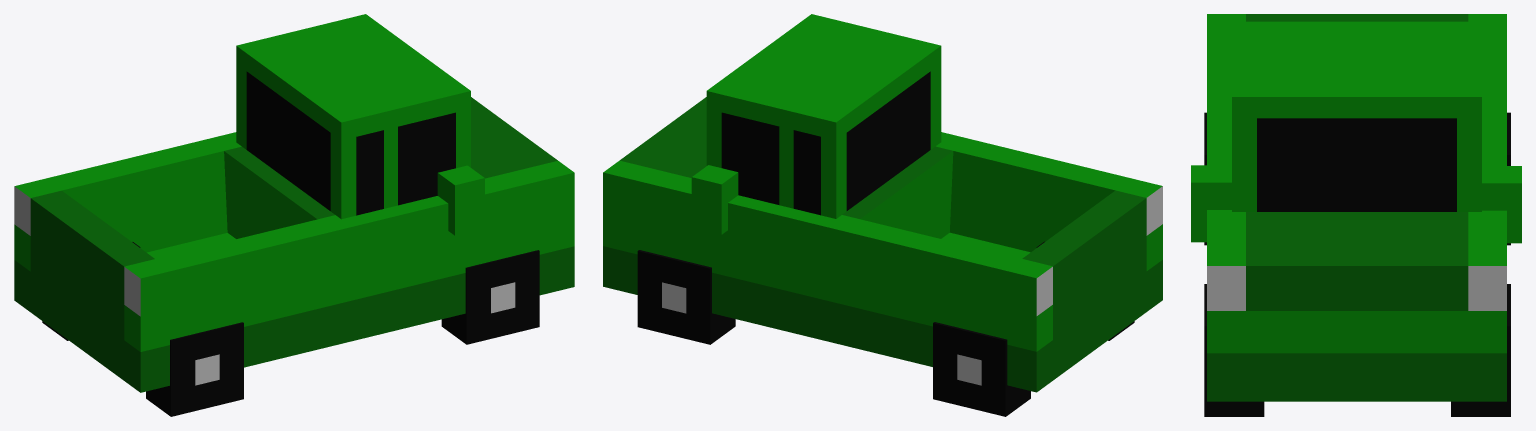
Rendered from TruckGreen.fbx.
The picture shows the model from 3 angles, left to right: view 1: azimuth 30°, elevation 25°; view 2: azimuth 150°, elevation 25°; view 3: azimuth 270°, elevation 25°; orthographic projection. The views are drawn at different scales.
Visible parts, largest first — view 1: Truck_copy:pasted__pCube11; view 2: Truck_copy:pasted__pCube11; view 3: Truck_copy:pasted__pCube11.
Part boxes in pixels (left/top/right/bottom): Truck_copy:pasted__pCube11: left=14, top=14, right=574, bottom=416; Truck_copy:pasted__pCube11: left=603, top=14, right=1162, bottom=416; Truck_copy:pasted__pCube11: left=1191, top=14, right=1521, bottom=416.
Bounding box in the file's own units: 0.9035 × 0.4803 × 0.5014.
